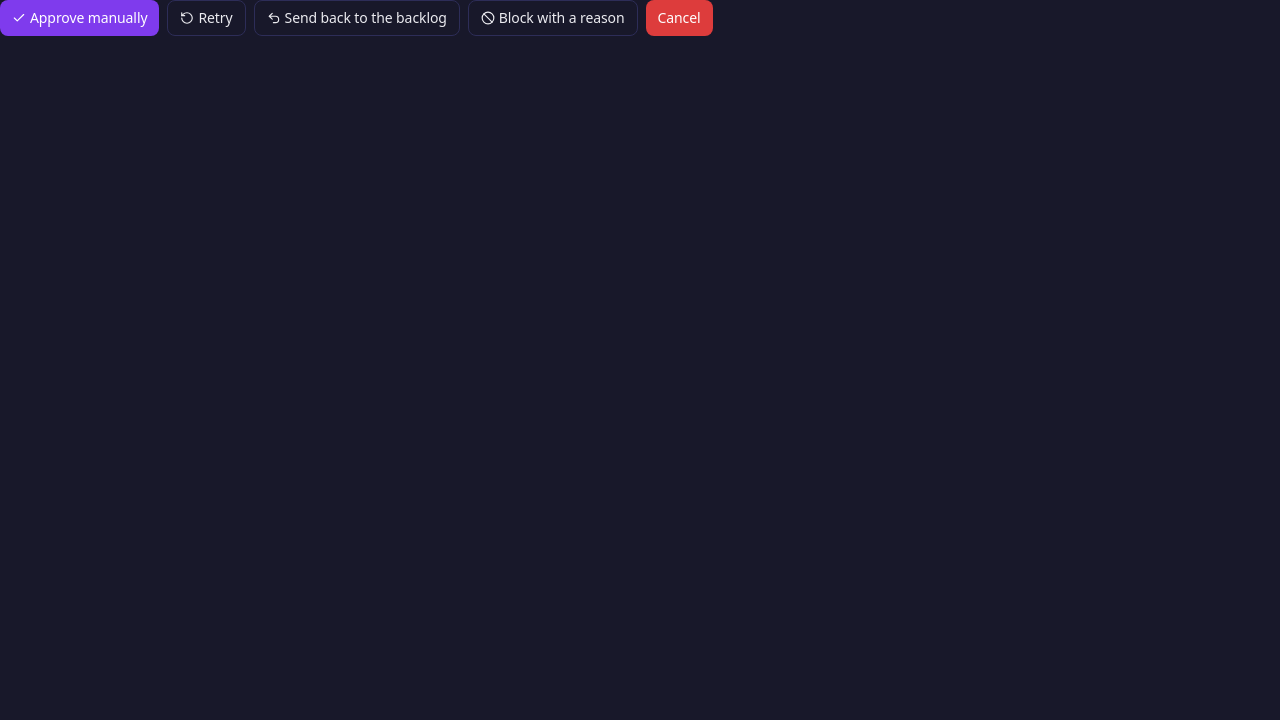
Scenario: acciones humanas sobre una tarea en los dos idiomas › traduce el diálogo de bloquear con motivo
Click the button with test id "block-task-1". click: [553, 18]
box: [468, 0, 638, 36]
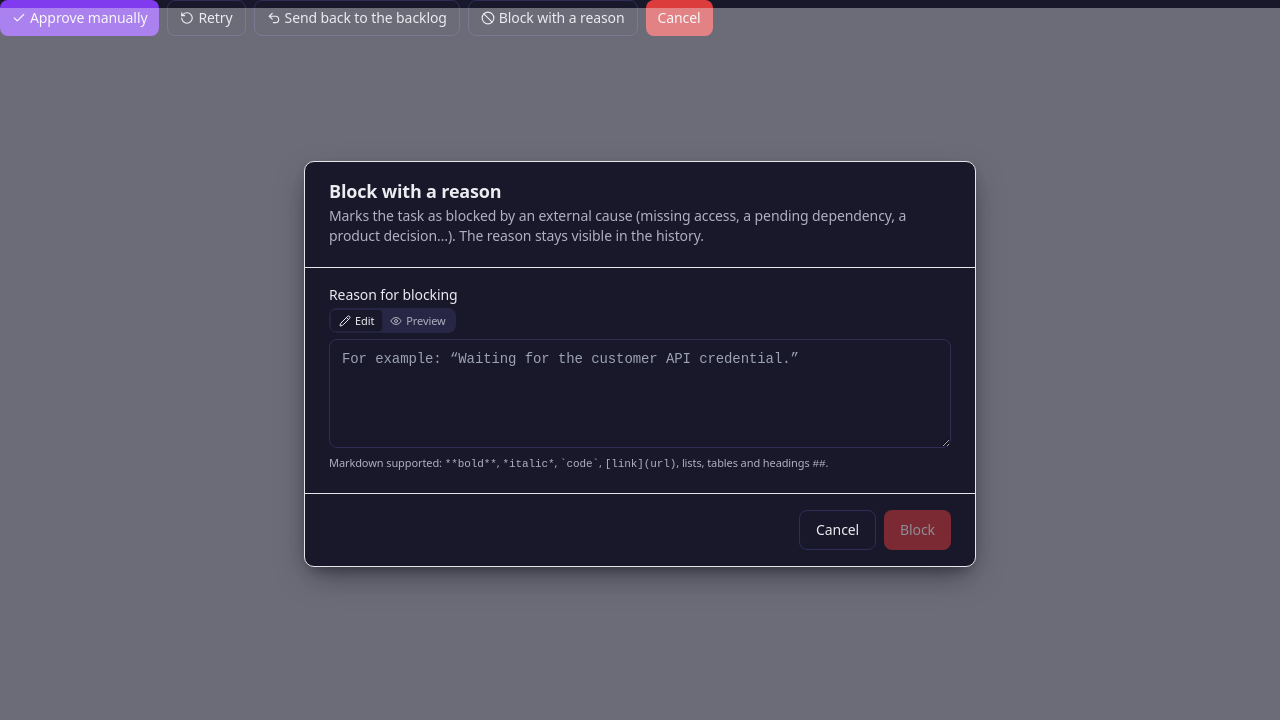
Now the text box with test id "block-reason-edit" is shown, box [329, 339, 951, 448]
Now the text "Marks the task as blocked by an external cause" is shown, box [329, 206, 906, 246]
Now the text "Reason for blocking" is shown, box [329, 285, 458, 304]
